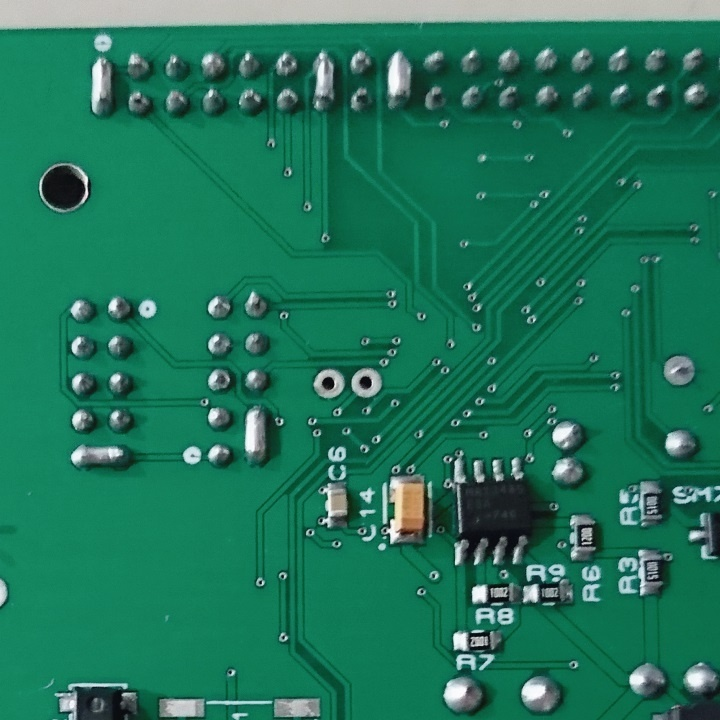F: (661, 352, 698, 389), (310, 366, 347, 402), (351, 367, 384, 400)
P: (67, 440, 137, 473), (239, 400, 271, 472), (384, 46, 416, 112), (87, 52, 118, 120), (312, 47, 338, 118)
